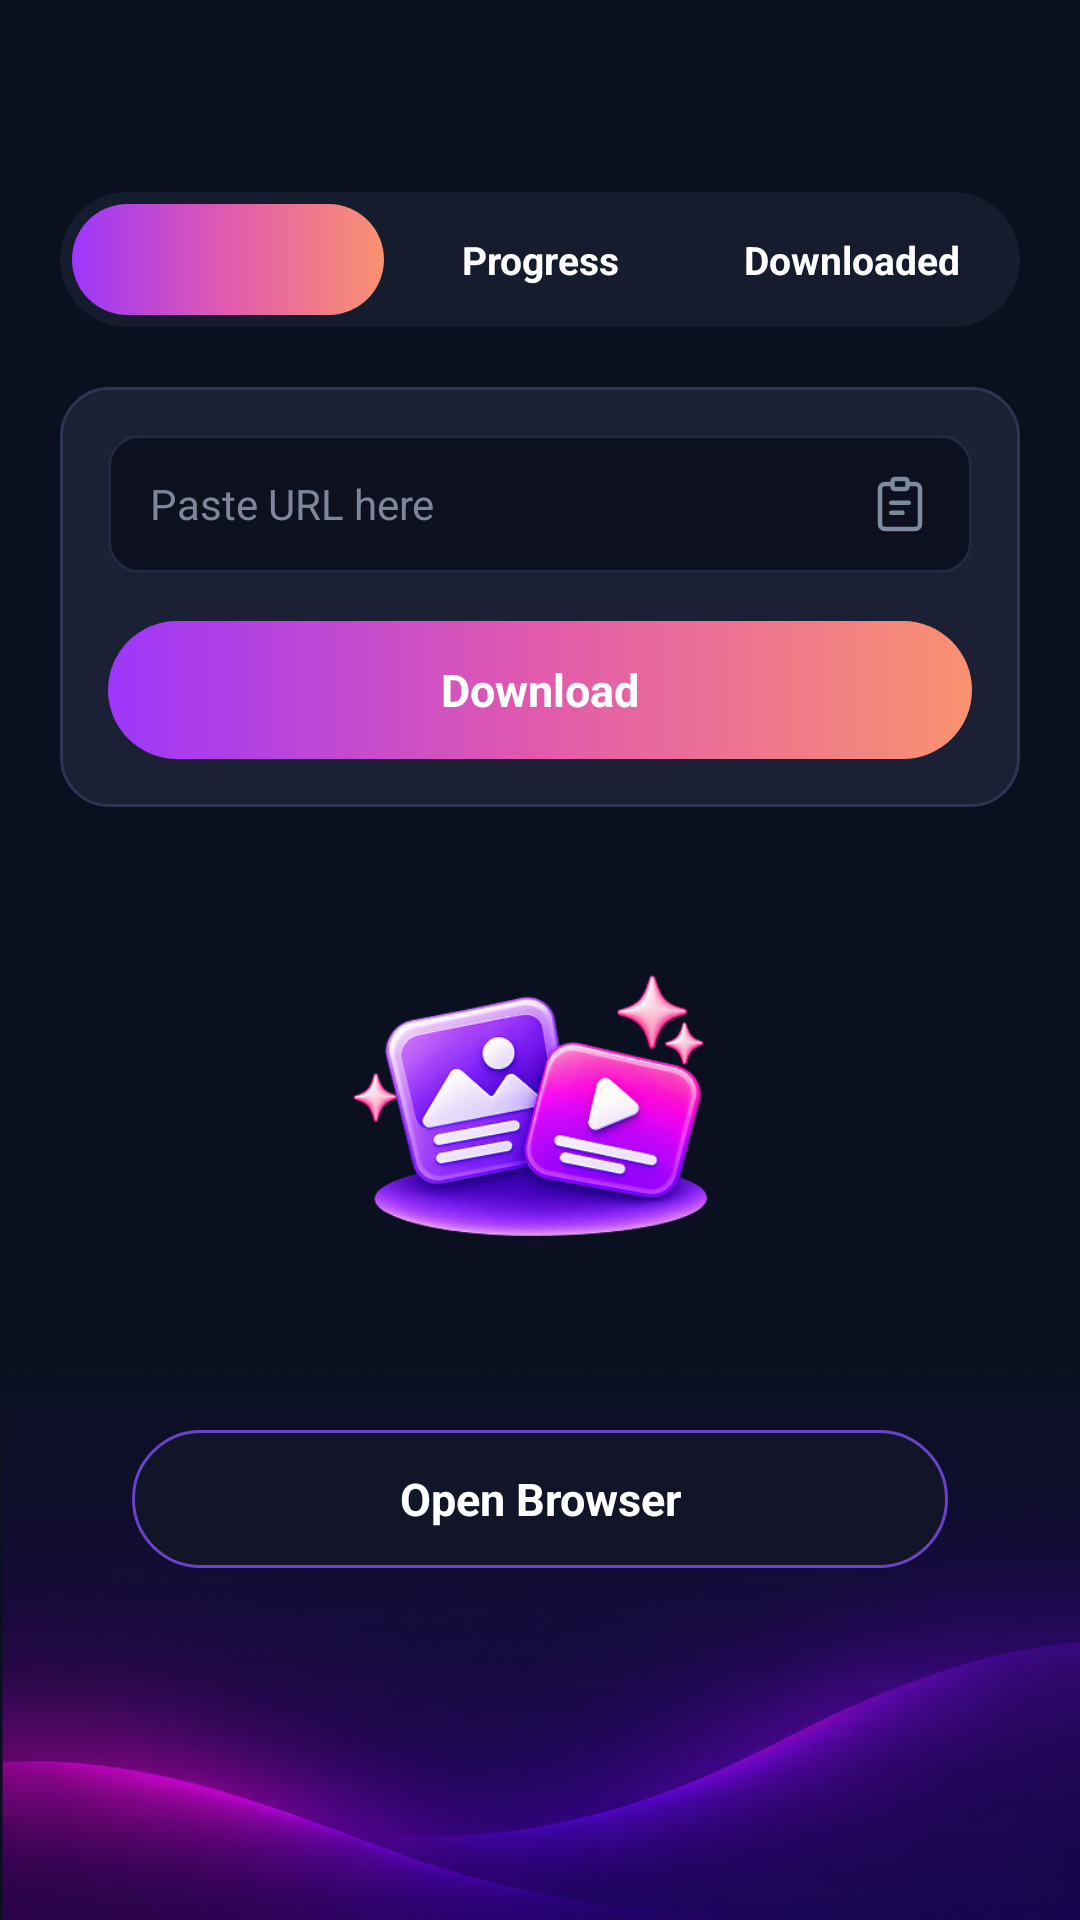

Icon click points for this 1080 × 1920 phone screenshot, format [x,y]:
clipboard: [900,504]
